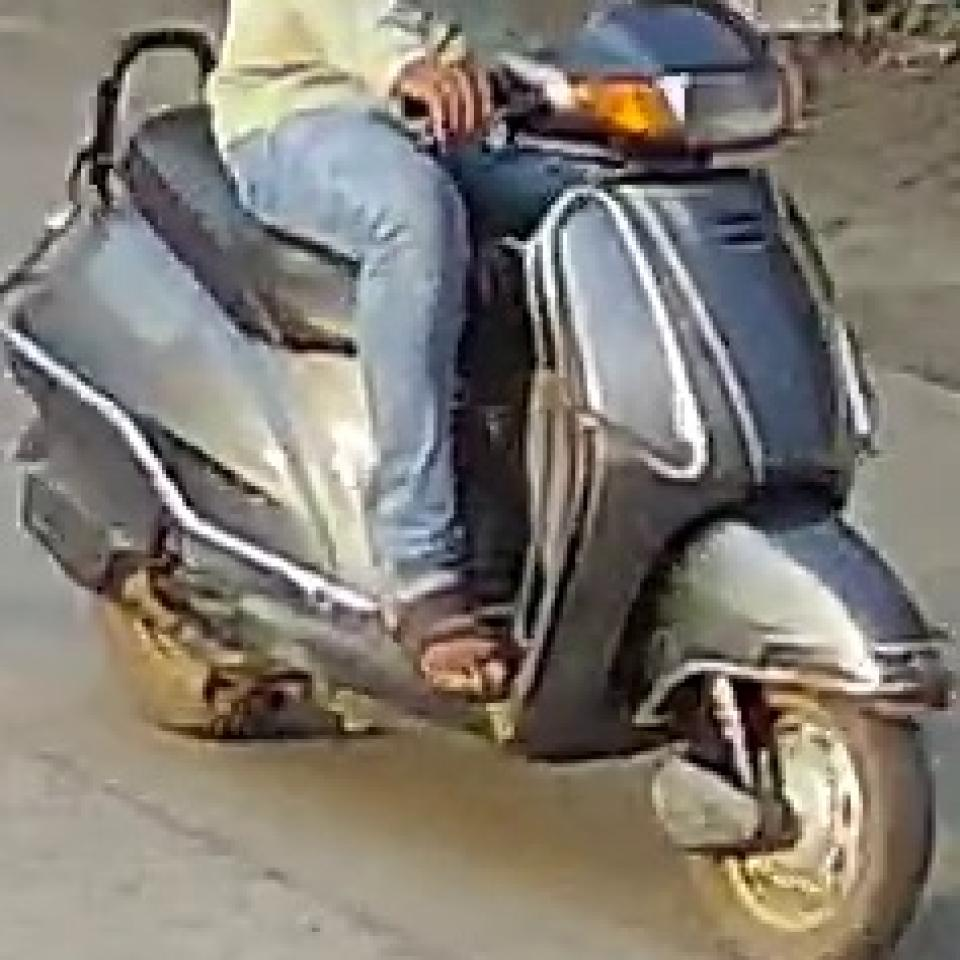head_light: (660, 53, 787, 148)
